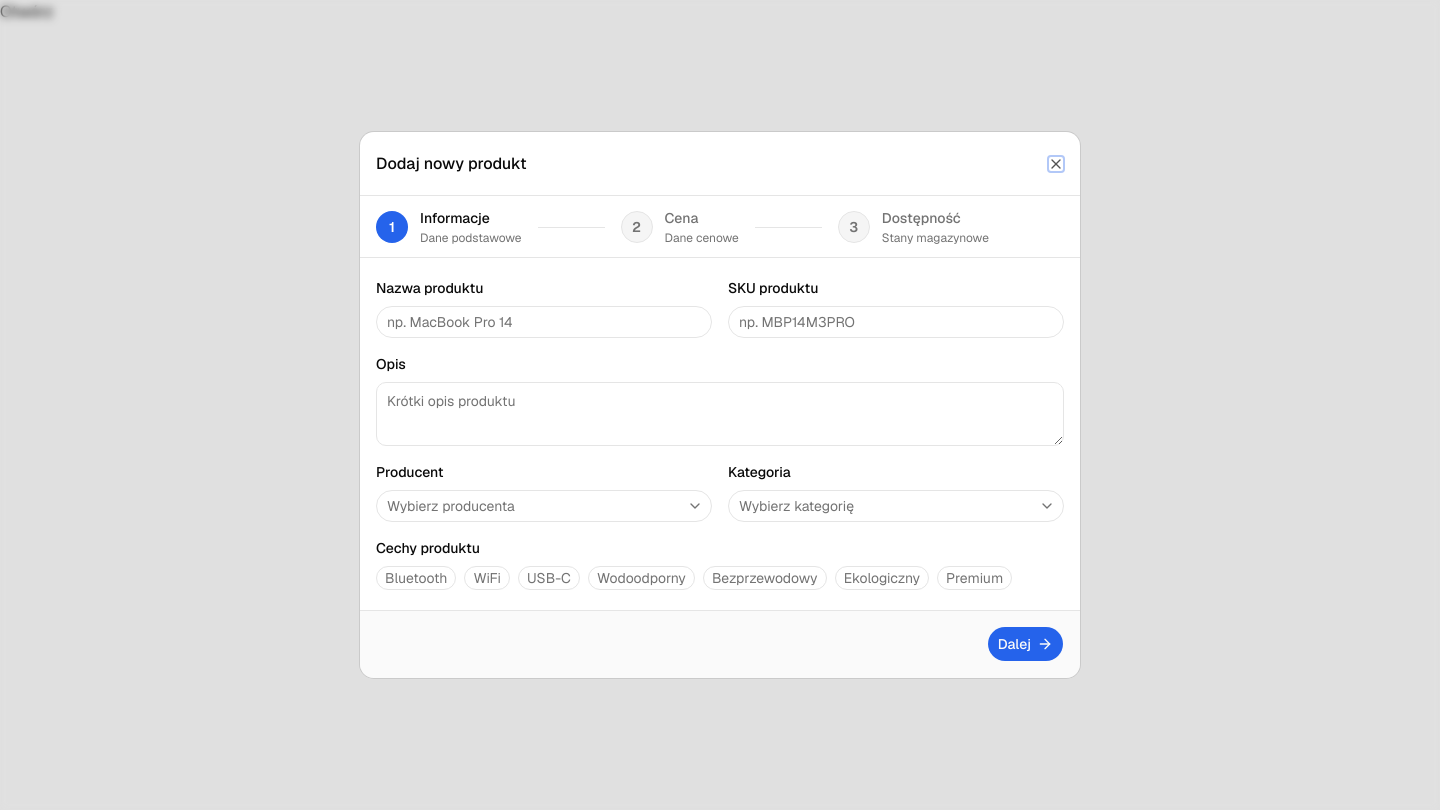
Test: AddProductDialog › nie pozwala przejść dalej z niepoprawnym krokiem 1 i pokazuje błędy przy polach
This screenshot has width=1440, height=810.
Click the button "Dalej" at (1025, 644), box 987,626 -> 1064,662
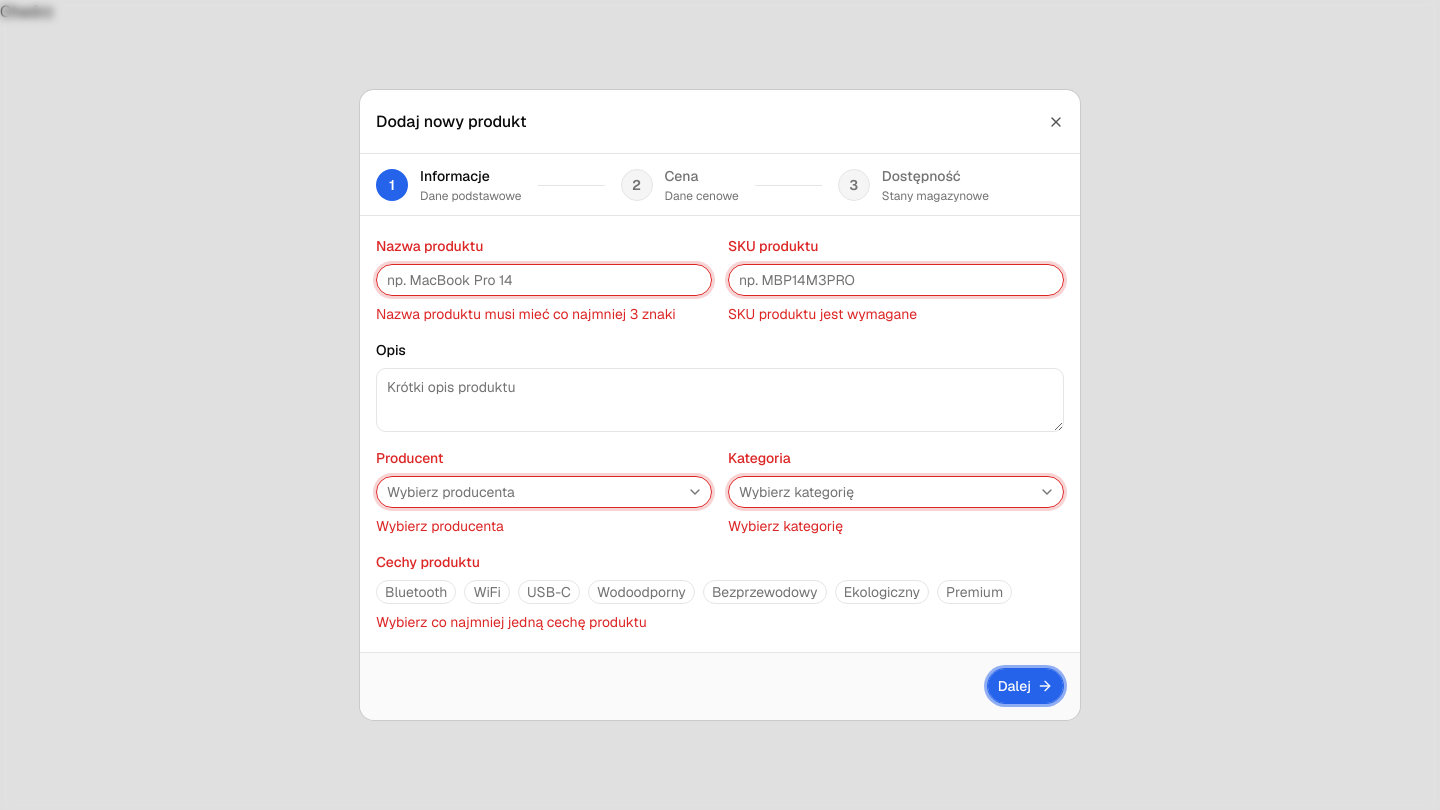
Result: the text "Nazwa produktu musi mieć co najmniej 3 znaki" is shown at 376,304 -> 712,324
Result: the text "SKU produktu jest wymagane" is shown at 728,305 -> 917,323
Result: the text "Wybierz co najmniej jedną cechę produktu" is shown at 376,613 -> 647,631
